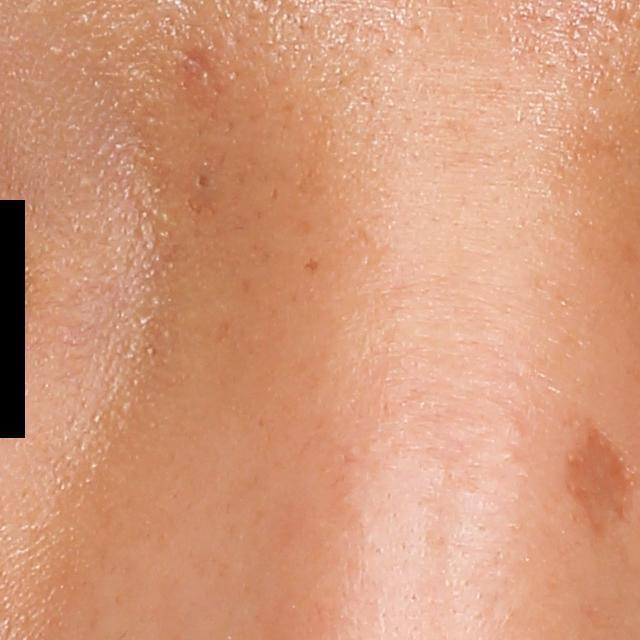atrophic_scar: (559, 430, 637, 550), (177, 40, 236, 98)
comedo: (193, 172, 211, 192)
